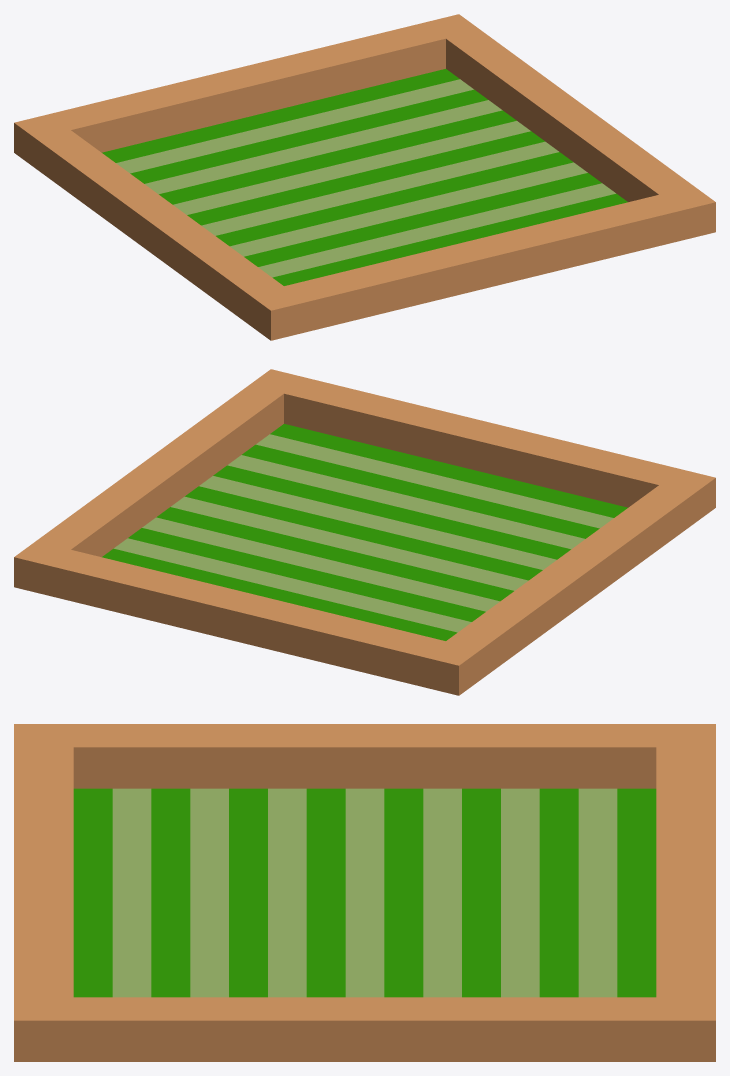
The model's file is Farm.obj.
3 renders of one model, top to bottom at view 1: azimuth 30°, elevation 25°; view 2: azimuth 150°, elevation 25°; view 3: azimuth 270°, elevation 25°, orthographic. The views are drawn at different scales.
Visible parts, largest first — view 1: Farm; view 2: Farm; view 3: Farm.
Part boxes in pixels (x1,y1,x2,y2): Farm: (14,14,715,340); Farm: (14,369,715,695); Farm: (14,724,715,1061).
Size of the model in its own units: 2 by 0.1292 by 2.
1 material, 1 textured.
